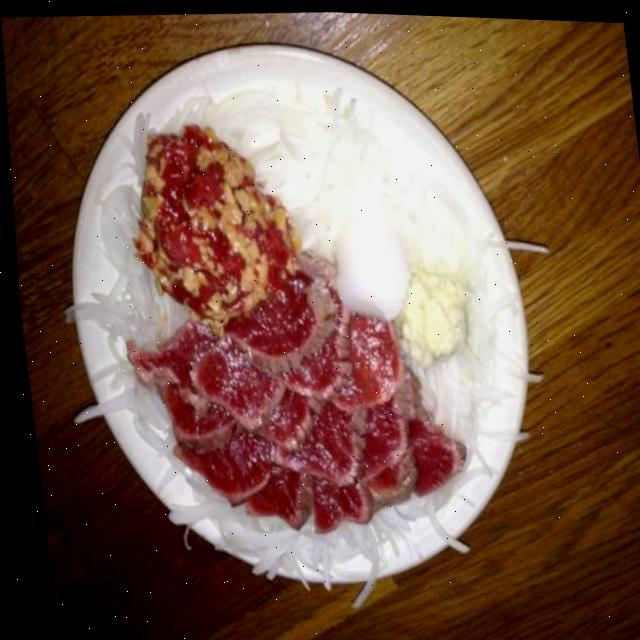刺身生食: (68, 60, 504, 570)
